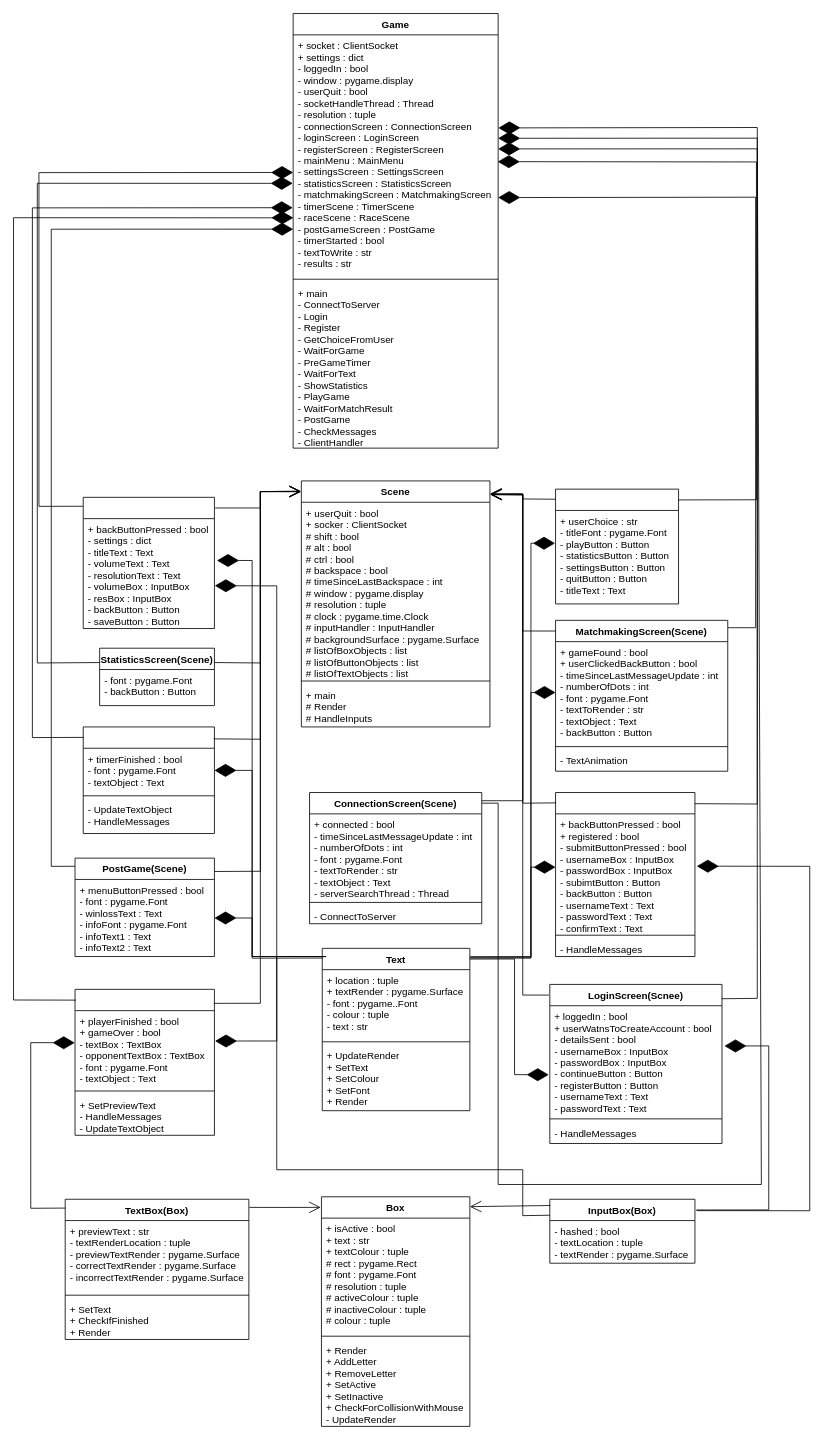
This 823x1440 diagram has some shape labels left out. Here are the shapes that lost their labels. From the top down, the box of each, then its label:
(82, 497, 214, 629): SettingsScreen(Scene)
(555, 488, 679, 604): MainMenu(Scene)
(82, 726, 214, 834): TimerScene(Scene)
(555, 792, 695, 957): RegisterScreen(Scene)
(74, 989, 214, 1135): RaceScene(Scene)
